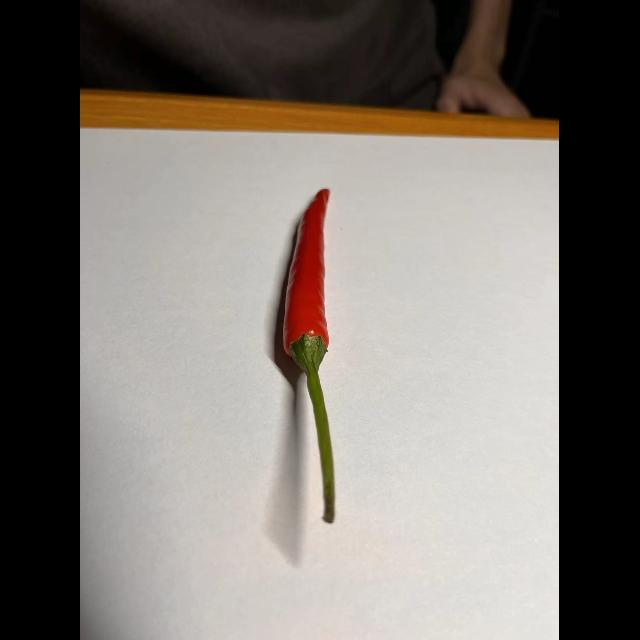chili_pepper: (273, 185, 352, 529)
